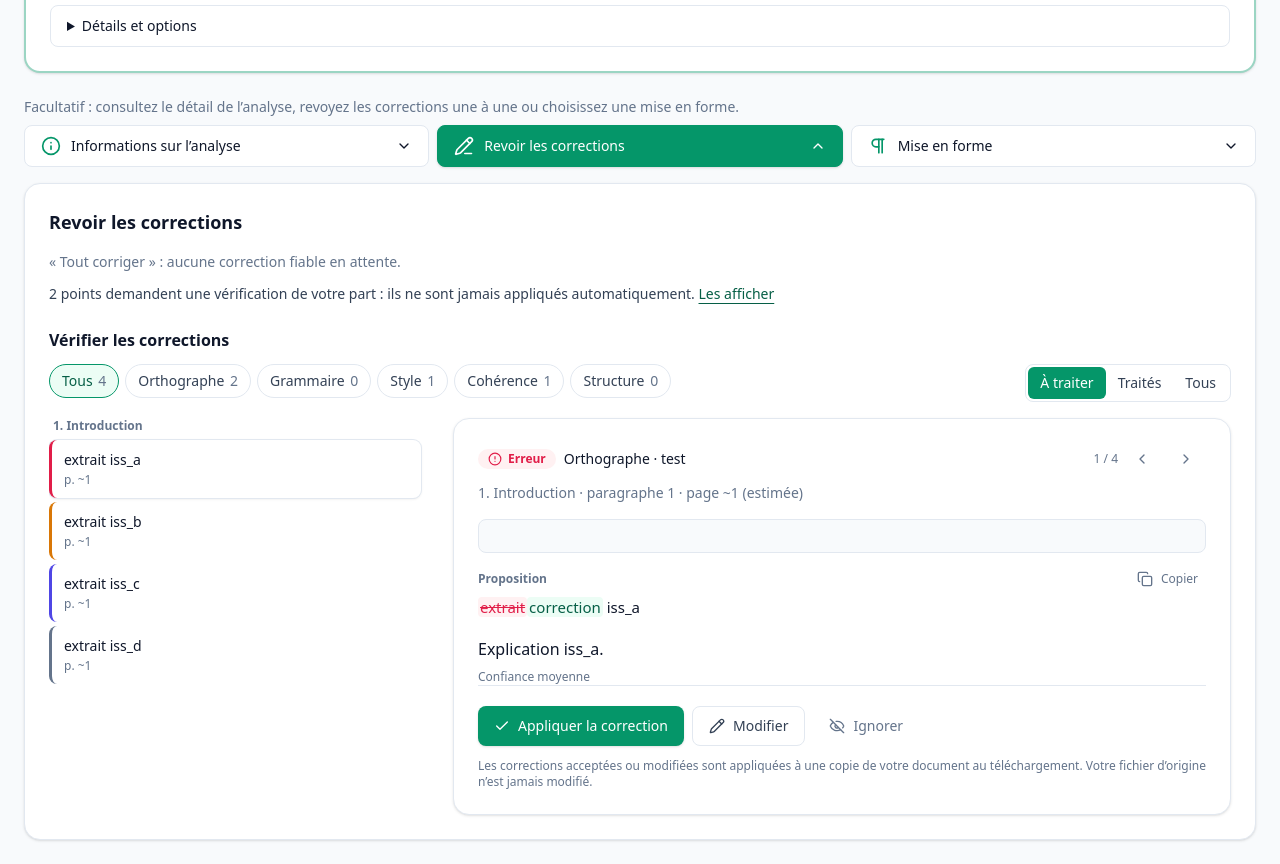
Compteur « points traités » après une décision › « Ignorer » puis « J’ai vérifié » : compteur et statuts identiques au serveur
(page scrolled)
Click the button "Ignorer" at (866, 726), box [814,706,919,746]
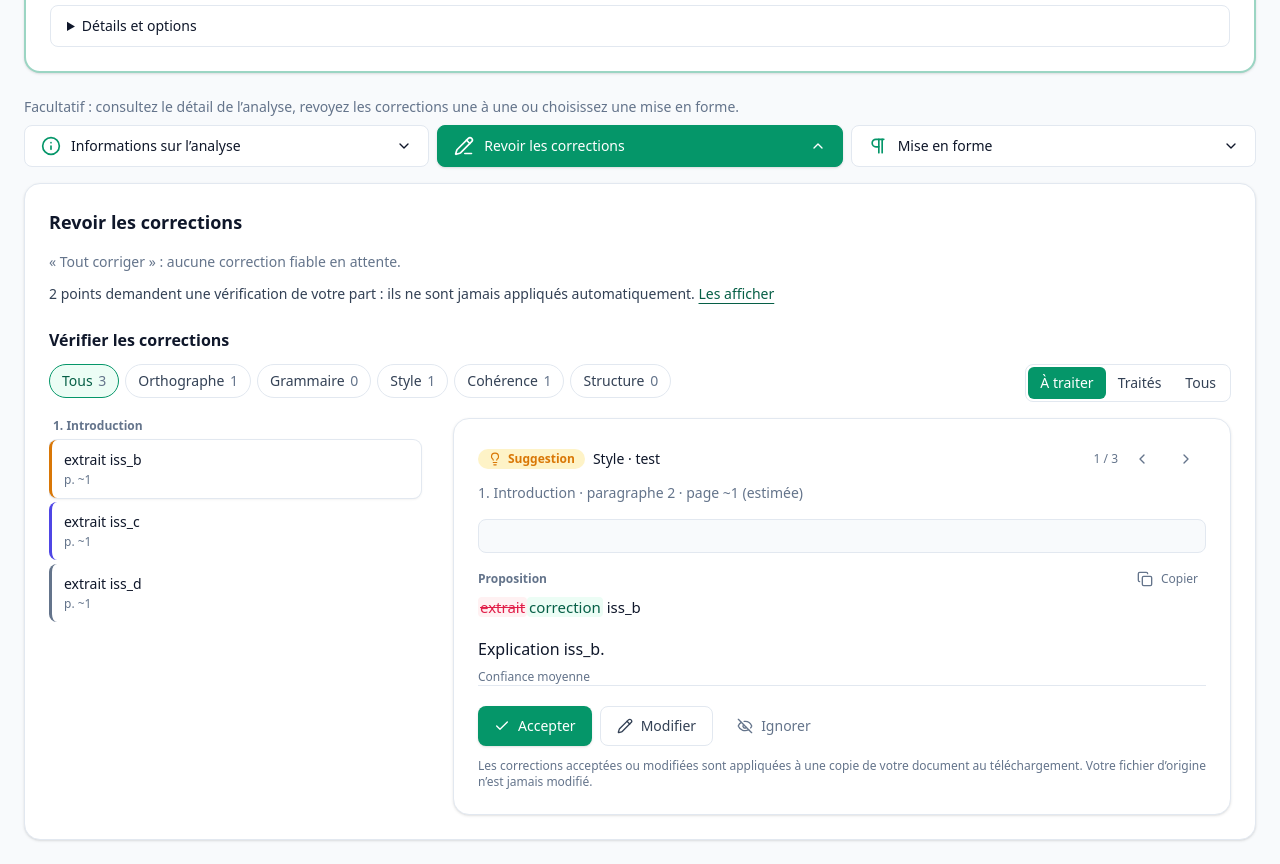
Click the button "Ignorer" at (774, 726), box [721,706,827,746]
(page scrolled)
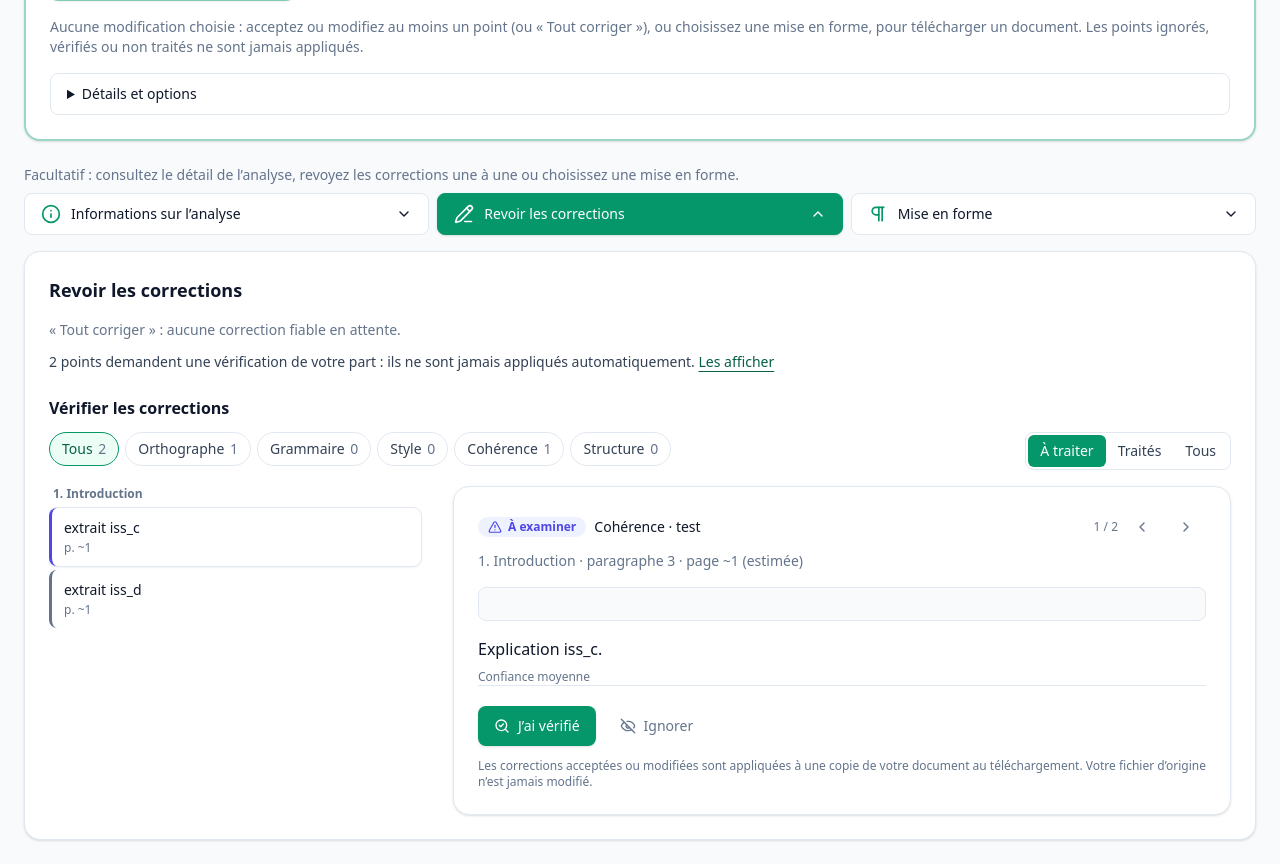
Click the button "J’ai vérifié" at (537, 726), box [478,706,596,746]
(page scrolled)
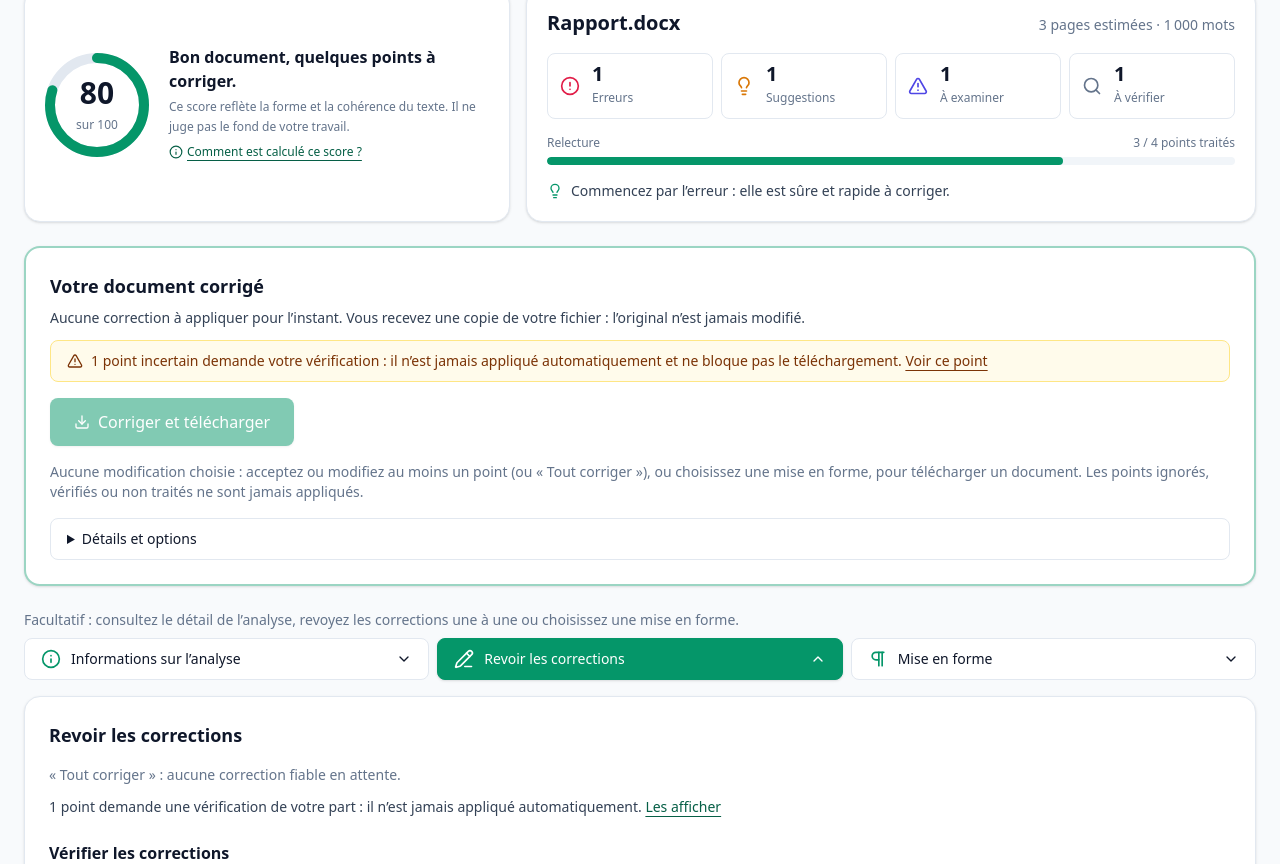
Expected: the text "3 / 4 points traités" is shown, [1133,135,1235,151]
